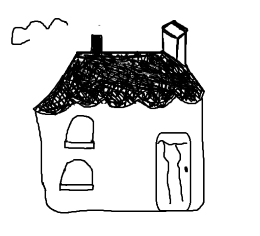chimney: (157, 16, 194, 69), (84, 26, 111, 53)
clouds: (7, 13, 74, 50)
door: (144, 126, 202, 216)
open_window: (59, 113, 106, 158), (55, 154, 97, 194)
shaded_roof: (33, 49, 207, 119)
wall: (32, 105, 212, 220)
